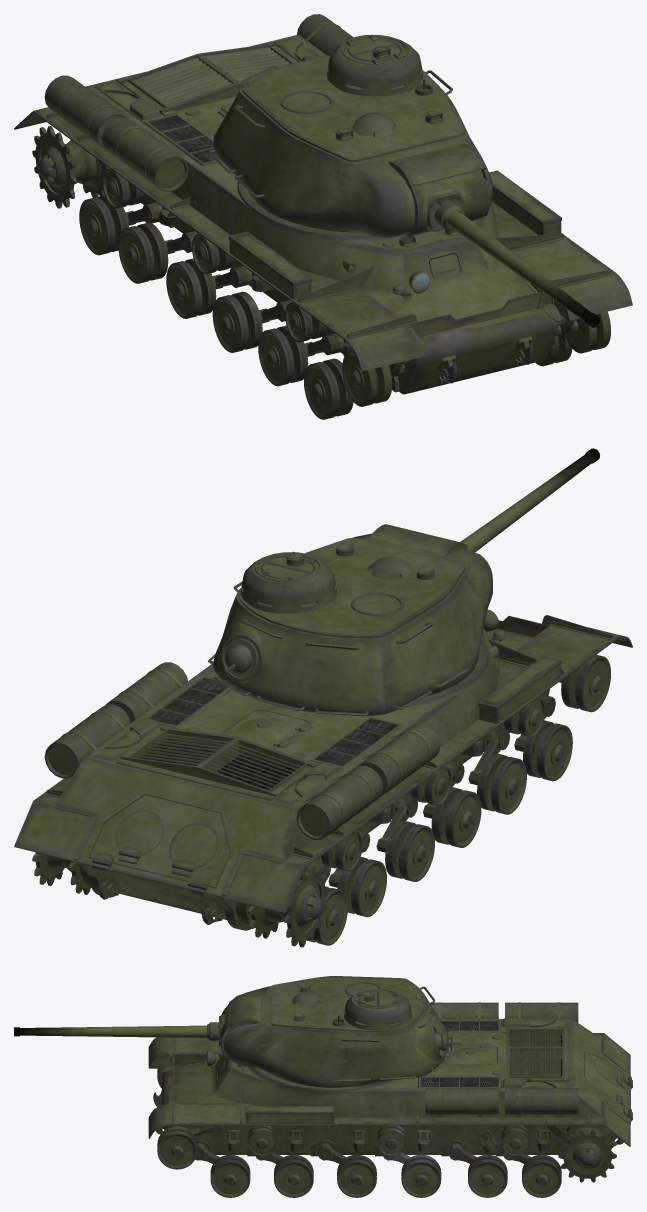
The picture shows the model from 3 angles, top to bottom: view 1: azimuth 30°, elevation 25°; view 2: azimuth 150°, elevation 25°; view 3: azimuth 270°, elevation 25°; orthographic projection. The views are drawn at different scales.
Visible parts, largest first — view 1: Wanne, turret, radL0, cannon, radL2, radL4, radL3, radL5, radL6, radL1, radL7, radR7 (+4 smaller); view 2: Wanne, turret, radL0, radL3, radL5, radL4, radL6, cannon, radL2, radL7, radL1, radR0 (+3 smaller); view 3: Wanne, turret, radR0, cannon, radR7, radR3, radR6, radR2, radR1, radR4, radR5, rollR2 (+2 smaller).
Boxes of the visible parts, x1,y1,x2,y2 form: Wanne: (14,14,632,394); turret: (208,34,492,237); radL0: (32,126,109,208); cannon: (434,200,600,327); radL2: (118,222,174,283); radL4: (212,291,269,352); radL3: (166,258,222,318); radL5: (258,325,314,386); radL6: (304,358,353,419); radL1: (79,195,135,255); radL7: (342,350,404,406); radR7: (555,311,610,353); Wanne: (14,609,632,930); turret: (208,524,492,716); radL0: (236,865,328,947); radL3: (376,821,434,881); radL5: (468,753,526,814); radL4: (423,787,481,847); radL6: (514,720,572,781); cannon: (460,448,599,552); radL2: (328,857,386,917); radL7: (561,654,610,712); radL1: (306,886,347,945); radR0: (32,852,91,894); Wanne: (148,1002,632,1163); turret: (217,976,459,1087); radR0: (558,1125,616,1182); cannon: (14,1022,218,1041); radR7: (157,1125,197,1169); radR3: (401,1154,441,1197); radR6: (210,1154,250,1197); radR2: (468,1154,507,1197); radR1: (522,1154,561,1197); radR4: (337,1154,376,1197); radR5: (274,1154,313,1197); rollR2: (377,1125,405,1156).
Bounding box in the file's own units: 3.17 × 2.71 × 8.55.
1 material, 1 textured.
